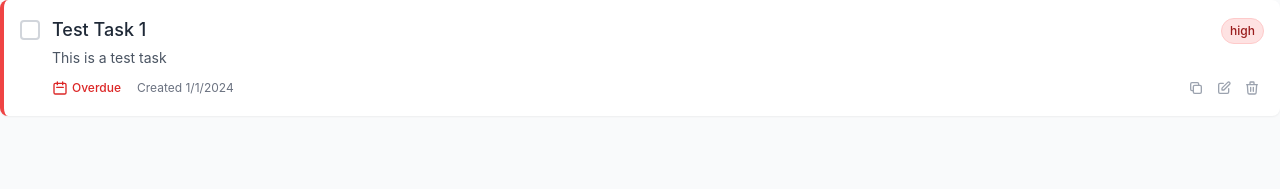
it: TaskItem Component › Priority Change Functionality › shows priority menu when priority badge is clicked
Click the button "high": coordinates (1243, 30) x1=1221 y1=18 x2=1264 y2=44
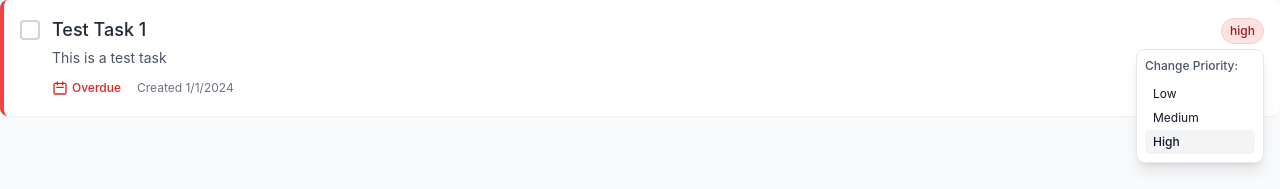
Expected: the text "Change Priority:" is shown, x1=1145 y1=58 x2=1238 y2=72
Expected: the button "Low" is shown, x1=1145 y1=82 x2=1255 y2=106
Expected: the button "Medium" is shown, x1=1145 y1=106 x2=1255 y2=130
